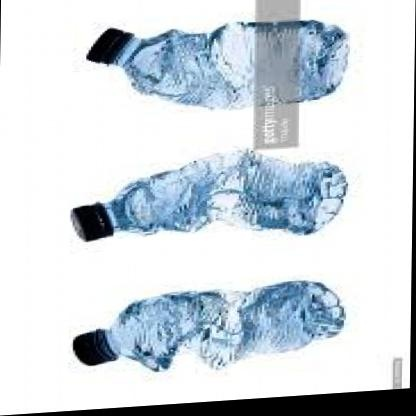trash: (72, 151, 347, 240), (73, 281, 344, 370), (87, 20, 348, 108)
